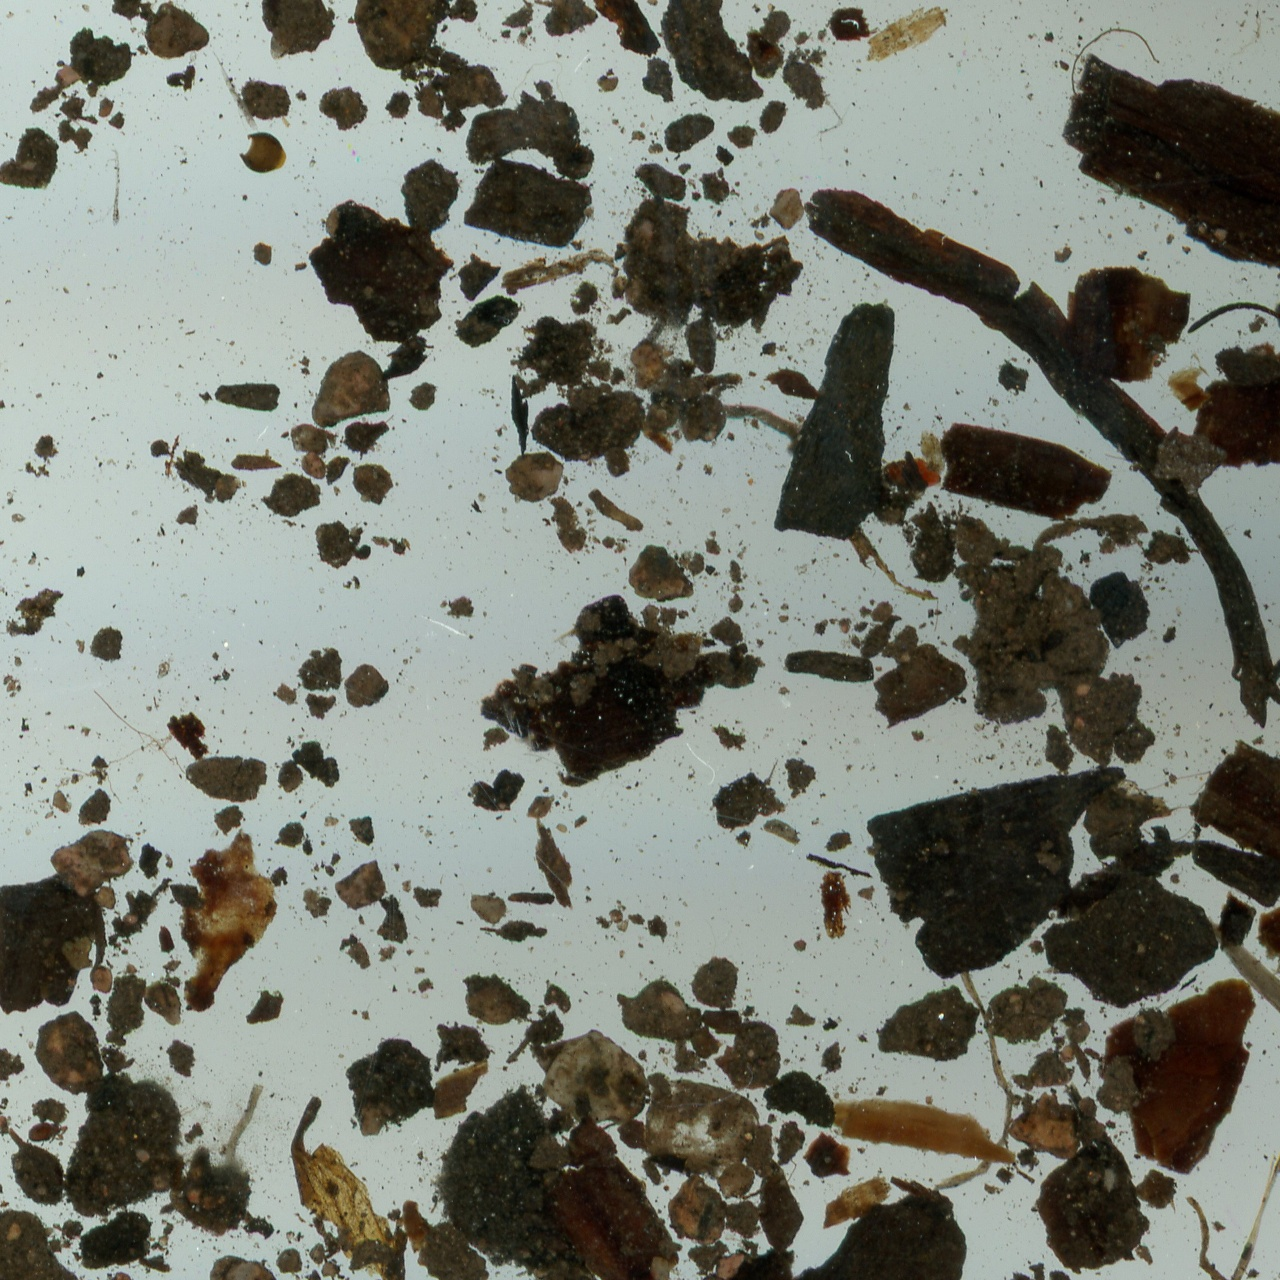arthropod: (1128, 154, 1280, 634), (23, 1119, 68, 1151)
